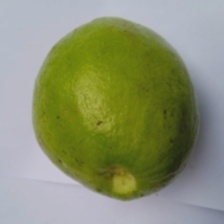guava: (39, 12, 224, 177)
